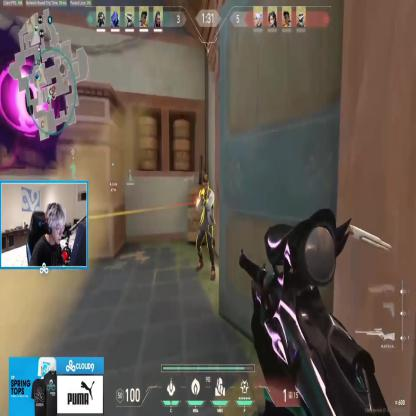enemy: (196, 175, 216, 282)
enemy_head: (202, 175, 210, 192)
